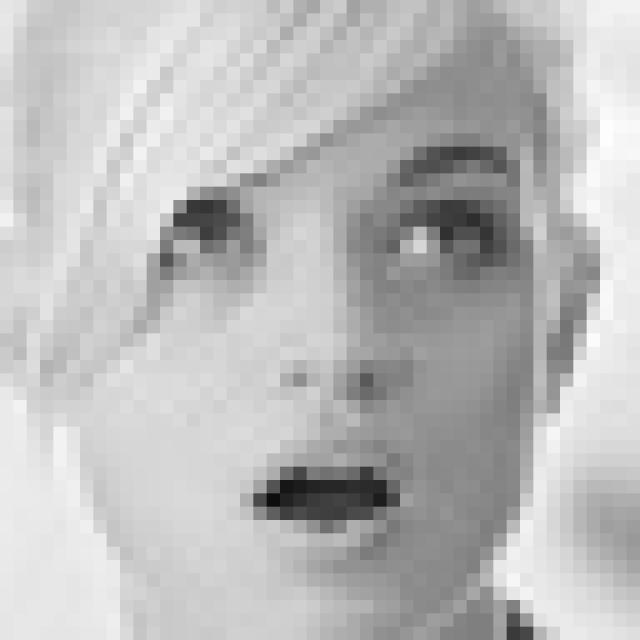surprise: (165, 138, 522, 566)
